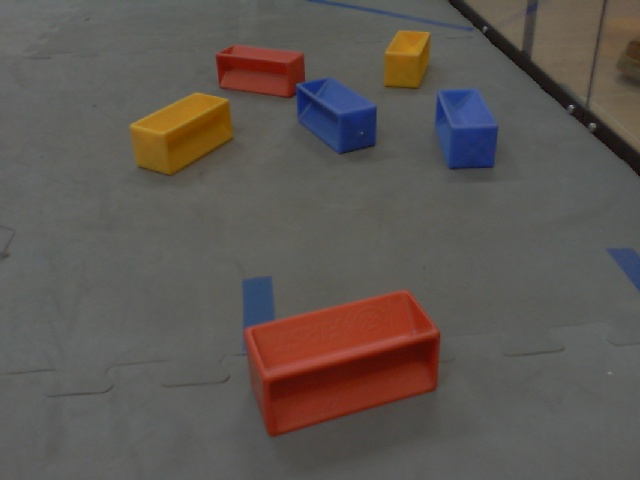BlueSample: (292, 75, 381, 155), (431, 83, 501, 174)
RedSample: (241, 286, 442, 440), (215, 41, 305, 98)
YellowSample: (127, 88, 238, 178), (381, 26, 434, 91)
